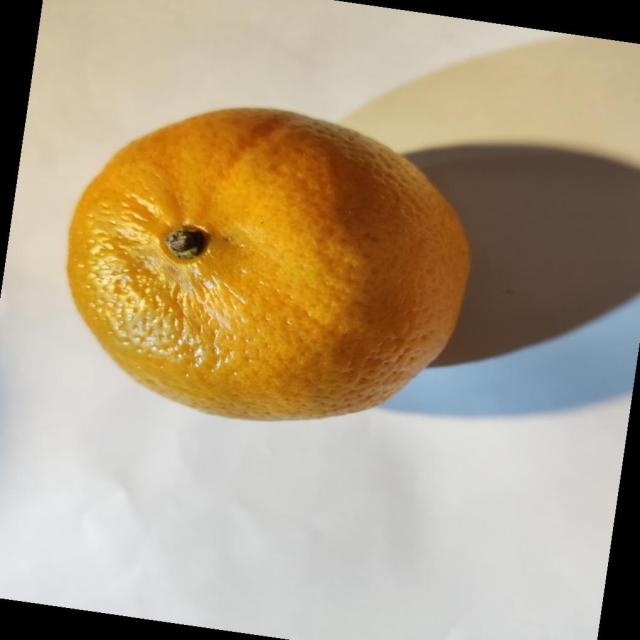agrume: (65, 105, 471, 422)
